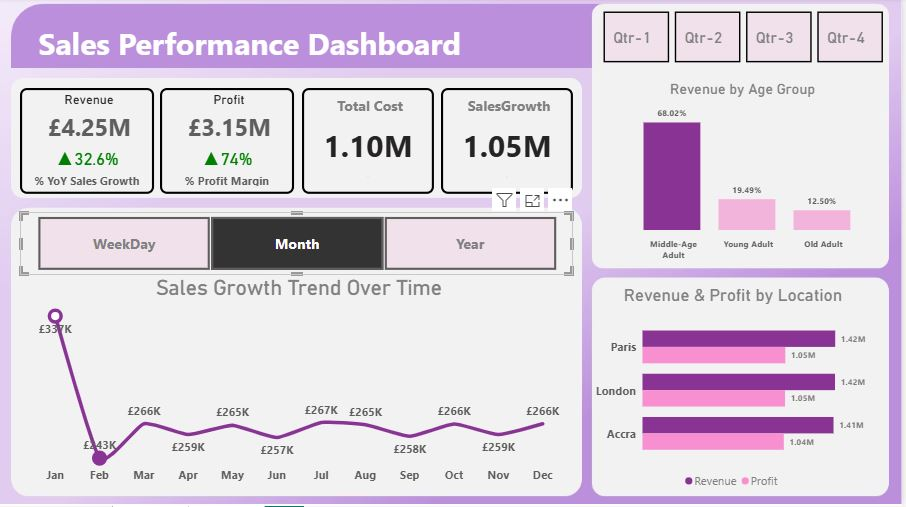

What the dashboard file says about the page in this screenshot:
{"tool":"powerbi","page":{"name":"Page 1","canvas":[1280,720],"ordinal":0},"visuals":[{"type":"card","title":"Revenue","fields":{"Values":["_DaxMeasure.YoY Revenue Change %"]},"box":[31.2,127.6,189.9,150.2],"z":0},{"type":"card","title":"Profit","fields":{"Values":["_DaxMeasure.% Profit Margin"]},"box":[229.6,127.6,189.9,150.2],"z":1000},{"type":"lineChart","title":"Sales Growth Trend Over Time","fields":{"Category":["Calendar.Year"],"Y":["_DaxMeasure.Revenue"]},"box":[51,392.6,751.2,304.7],"z":2000},{"type":"card","fields":{"Values":["_DaxMeasure.SalesGrowth_Margin"]},"box":[627.9,127.6,187.1,150.2],"z":3000},{"type":"slicer","fields":{"Values":["Trend over Time .Trend over Time "]},"box":[31.2,303.3,783.8,89.3],"z":4000},{"type":"clusteredBarChart","title":"Revenue & Profit by Location","fields":{"Category":["Store.store_state_province"],"Y":["_DaxMeasure.Revenue","_DaxMeasure.Profit"]},"box":[840.5,406.8,402.5,297.6],"z":5000},{"type":"columnChart","fields":{"Y":["_DaxMeasure.Revenue"],"Category":["Customer.Age Group"]},"box":[850.4,117.6,409.6,262.2],"z":6000},{"type":"card","fields":{"Values":["_DaxMeasure.Total Cost"]},"box":[430.9,127.6,187.1,150.2],"z":7000},{"type":"textbox","box":[52.4,29.8,762.5,66.6],"z":8000},{"type":"advancedSlicerVisual","fields":{"Values":["Calendar.Qtr"]},"box":[853.2,14.2,406.8,82.2],"z":9000}]}

Visuals, with their boxes in screenshot pixels (x1, y1, x2, y2), scaled from the page's 1280x720 canvas onto the 906x507 screenshot:
"Revenue" card: [22, 90, 156, 196]
"Profit" card: [163, 90, 297, 196]
"Sales Growth Trend Over Time" lineChart: [36, 276, 568, 491]
card - _DaxMeasure.SalesGrowth_Margin: [444, 90, 577, 196]
slicer - Trend over Time .Trend over Time : [22, 214, 577, 276]
"Revenue & Profit by Location" clusteredBarChart: [595, 286, 880, 496]
columnChart - _DaxMeasure.Revenue x Customer.Age Group: [602, 83, 892, 267]
card - _DaxMeasure.Total Cost: [305, 90, 437, 196]
textbox: [37, 21, 577, 68]
advancedSlicerVisual - Calendar.Qtr: [604, 10, 892, 68]
